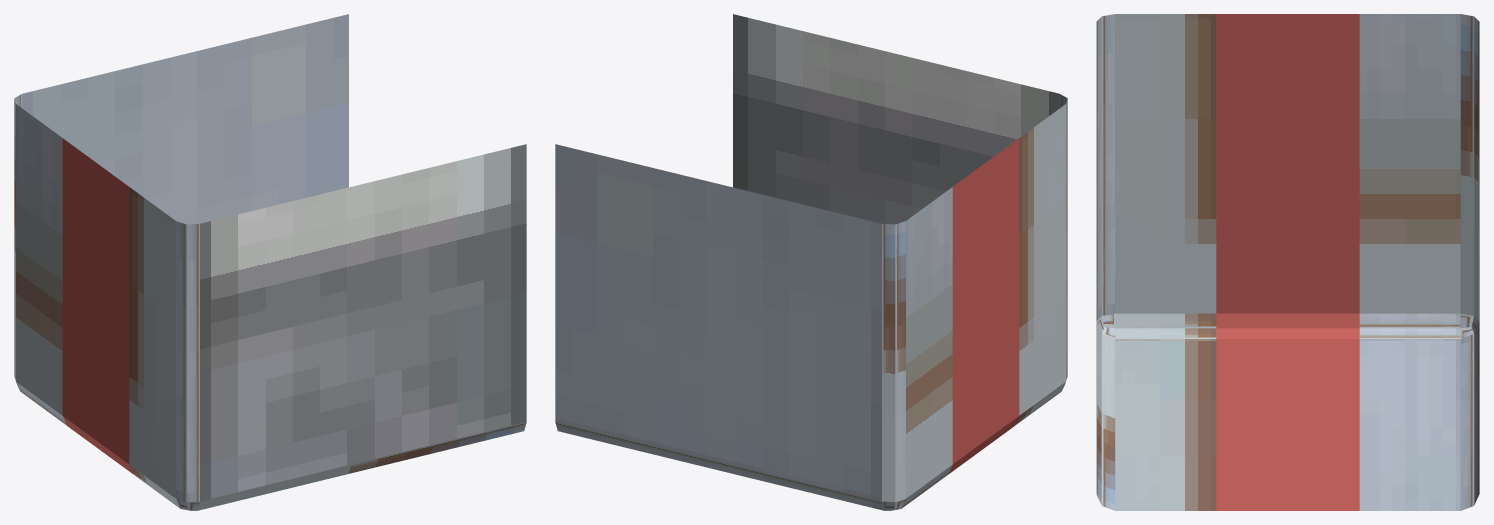
The picture shows the model from 3 angles, left to right: view 1: azimuth 30°, elevation 25°; view 2: azimuth 150°, elevation 25°; view 3: azimuth 270°, elevation 25°; orthographic projection. The views are drawn at different scales.
Parts seen in each view (by area): view 1: ar; view 2: ar; view 3: ar.
Boxes of the visible parts, bbox=[...] form: ar: bbox=[14, 14, 526, 510]; ar: bbox=[555, 14, 1067, 510]; ar: bbox=[1096, 14, 1479, 510].
Size of the model in its own units: 2.22 by 1.82 by 2.
1 material, 1 textured.
